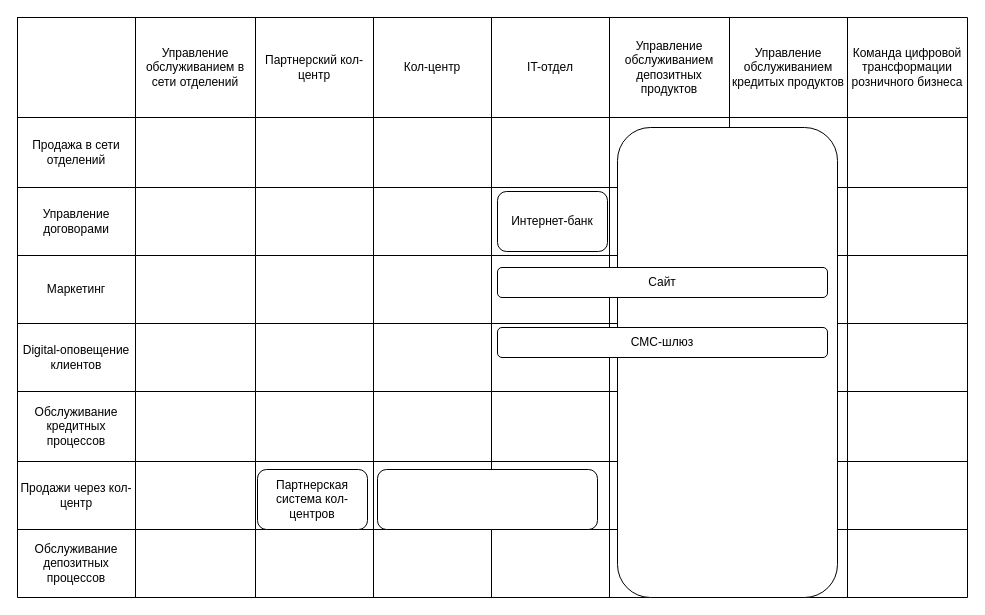
The diagram is 985 pixels wide and 615 high, and some of its shapes have lost their labels. Here are the shapes that lost their labels. From the top down, the box of each, then its label:
(616, 126, 838, 598): АБС
(376, 468, 598, 530): Система кол-центра
